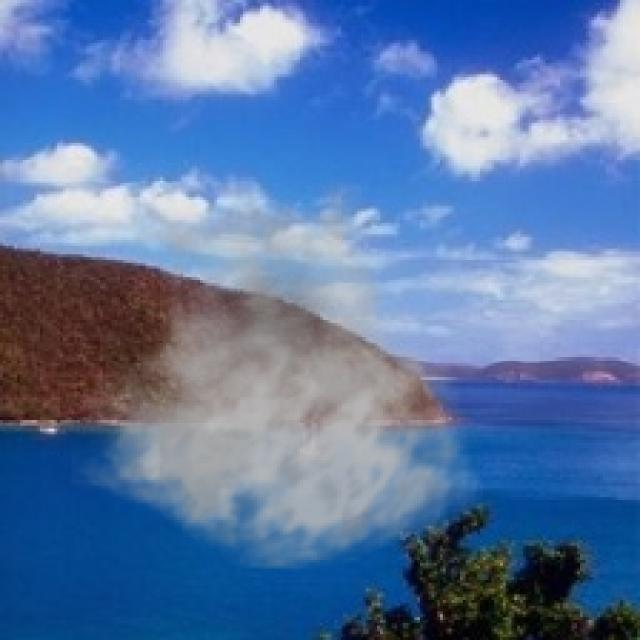smoke: (71, 168, 483, 572)
